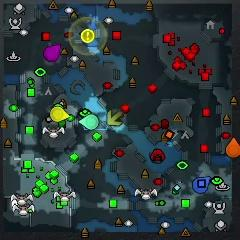Other: (81, 29, 95, 44)
p1: (192, 176, 212, 193)
p2: (80, 114, 99, 130)
p3: (43, 45, 62, 62)
p4: (50, 105, 69, 122)
p5: (225, 137, 240, 158)
x2: (106, 110, 124, 127)
